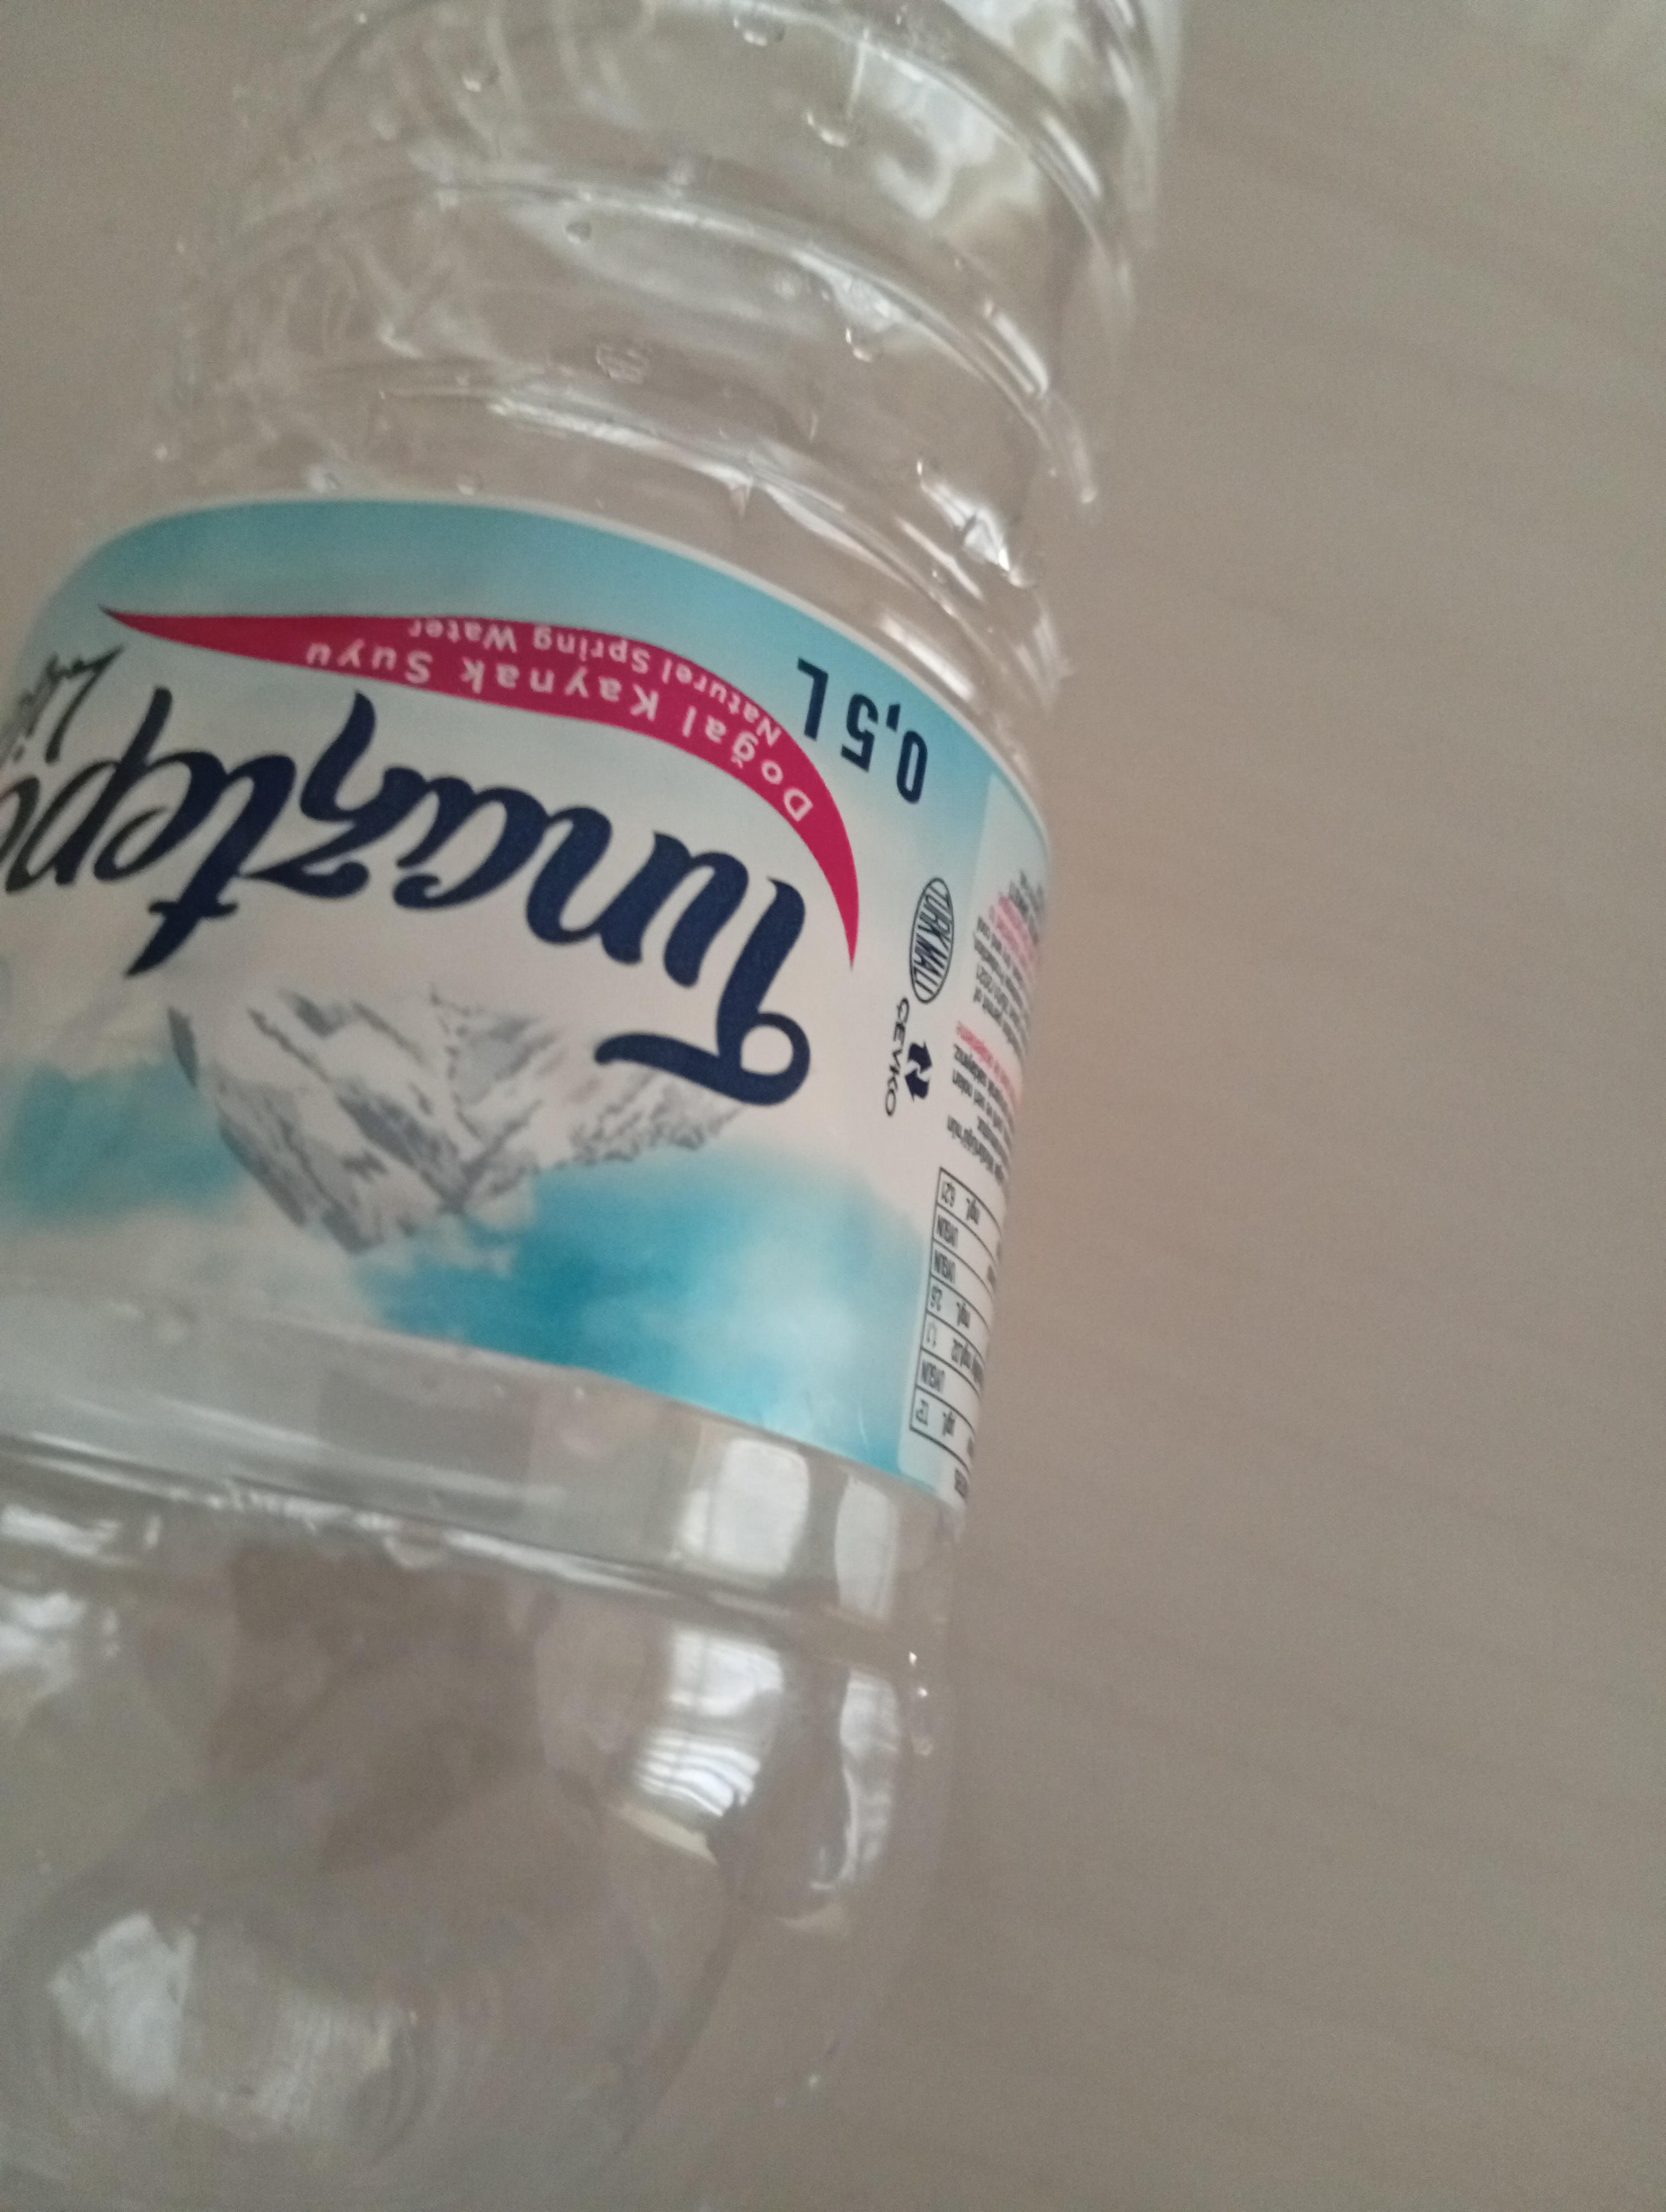etiketli: (0, 0, 1222, 2205)
